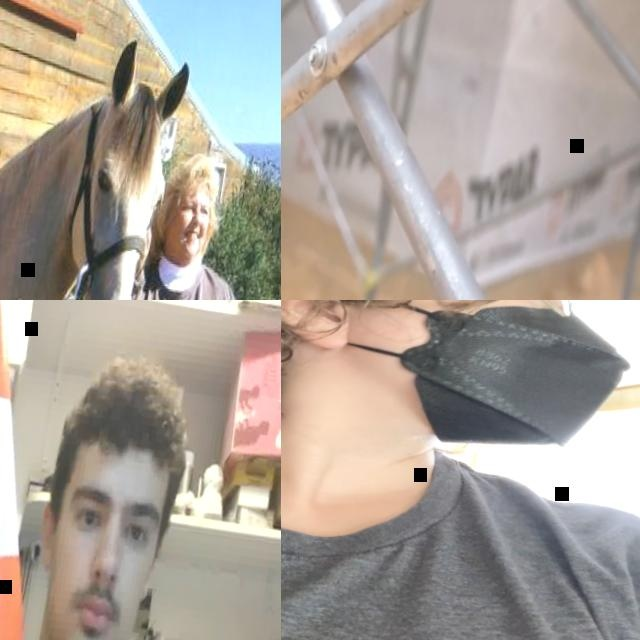Mask: (301, 300, 637, 469)
NO-Hardhat: (66, 343, 195, 491), (170, 151, 225, 203)
NO-Mask: (46, 576, 142, 640), (167, 219, 207, 262)
NO-Safety Vest: (281, 399, 640, 640)
Person: (281, 300, 640, 640), (0, 316, 281, 640), (82, 140, 281, 300)
Safety Cone: (0, 300, 147, 640)
